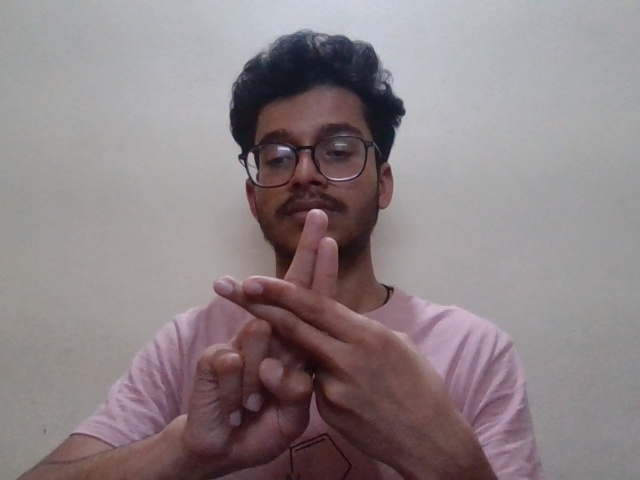disabled: (178, 207, 465, 455)
